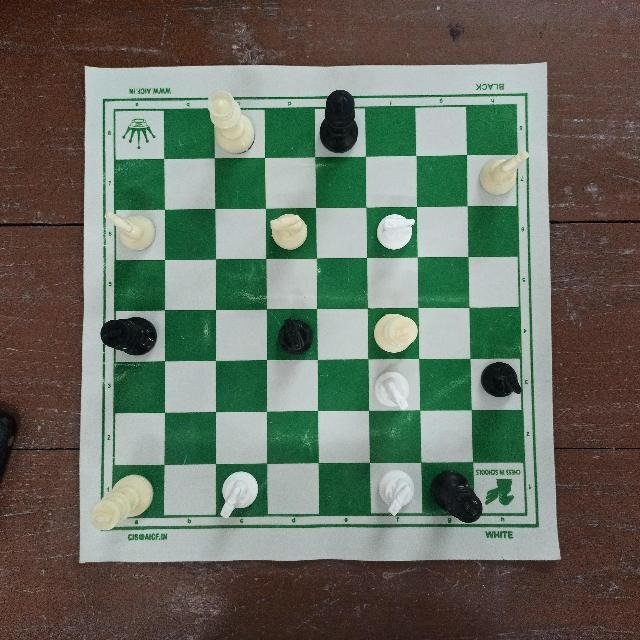black-king: (317, 79, 371, 152), (434, 467, 486, 526), (97, 315, 161, 361)
black-knight: (471, 358, 528, 400), (265, 317, 318, 359)
white-king: (88, 472, 154, 534), (368, 311, 422, 361)
white-knight: (475, 144, 533, 200), (100, 207, 165, 256), (214, 464, 262, 523), (263, 207, 319, 257), (370, 466, 417, 525), (370, 368, 419, 414), (373, 210, 419, 252)
white-queen: (205, 86, 259, 156)
